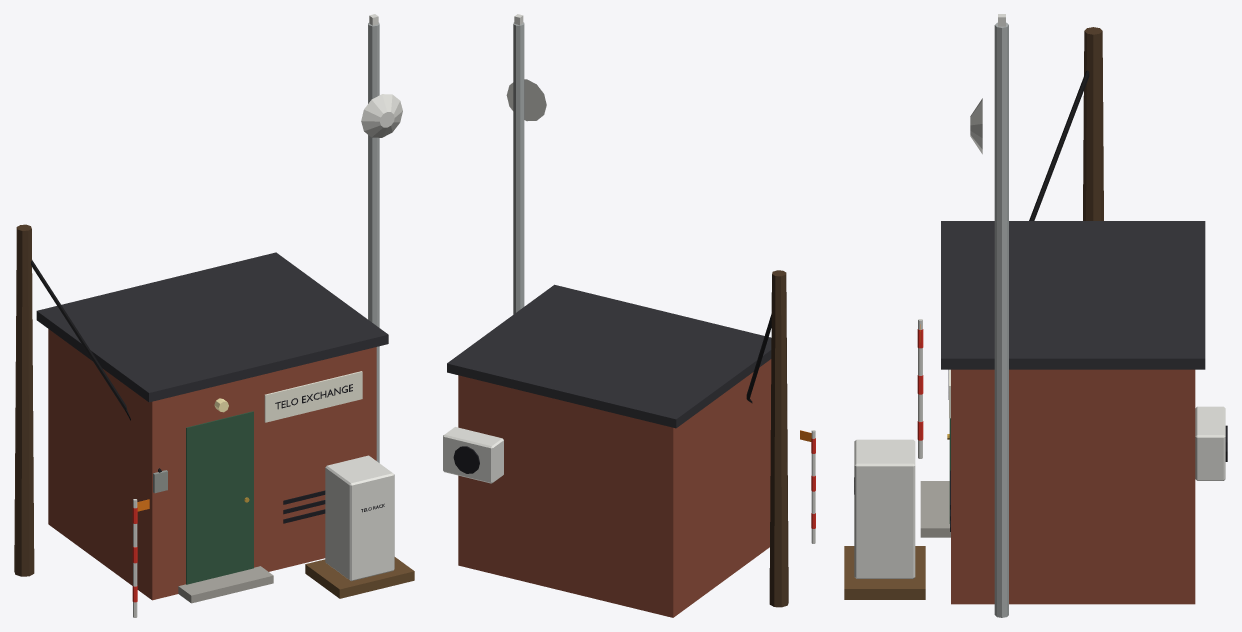
Rendered from site.exchange-hut.glb.
The picture shows the model from 3 angles, left to right: view 1: azimuth 30°, elevation 25°; view 2: azimuth 150°, elevation 25°; view 3: azimuth 270°, elevation 25°; orthographic projection. The views are drawn at different scales.
Visible parts, largest first — view 1: walls, roof, door, rack-wrapped, cut-pole, mast, sign, pallet, step, mast-dish, cut-cable; view 2: walls, roof, cut-pole, mast, ac, mast-dish, ac-fan; view 3: walls, roof, mast, rack-wrapped, cut-pole, pallet, ac, step, cut-cable.
Part boxes in pixels (x1=…): walls: x1=48, y1=329, x2=376, y2=600; roof: x1=36, y1=252, x2=388, y2=402; door: x1=186, y1=411, x2=253, y2=584; rack-wrapped: x1=325, y1=455, x2=394, y2=581; cut-pole: x1=14, y1=224, x2=34, y2=576; mast: x1=368, y1=22, x2=379, y2=462; sign: x1=264, y1=371, x2=362, y2=422; pallet: x1=305, y1=557, x2=414, y2=598; step: x1=178, y1=566, x2=273, y2=603; mast-dish: x1=361, y1=94, x2=402, y2=137; cut-cable: x1=31, y1=260, x2=126, y2=409; walls: x1=458, y1=359, x2=771, y2=617; roof: x1=447, y1=284, x2=771, y2=428; cut-pole: x1=769, y1=270, x2=788, y2=607; mast: x1=513, y1=22, x2=524, y2=314; ac: x1=443, y1=427, x2=503, y2=483; mast-dish: x1=506, y1=79, x2=546, y2=121; ac-fan: x1=453, y1=446, x2=479, y2=473; walls: x1=951, y1=369, x2=1195, y2=604; roof: x1=941, y1=221, x2=1205, y2=369; mast: x1=994, y1=22, x2=1008, y2=617; rack-wrapped: x1=854, y1=439, x2=915, y2=578; cut-pole: x1=1083, y1=27, x2=1103, y2=220; pallet: x1=844, y1=546, x2=925, y2=599; ac: x1=1195, y1=406, x2=1225, y2=480; step: x1=920, y1=481, x2=950, y2=537; cut-cable: x1=1029, y1=70, x2=1089, y2=220.
Bounding box in the file's own units: 4.55 × 6.5 × 3.77.
